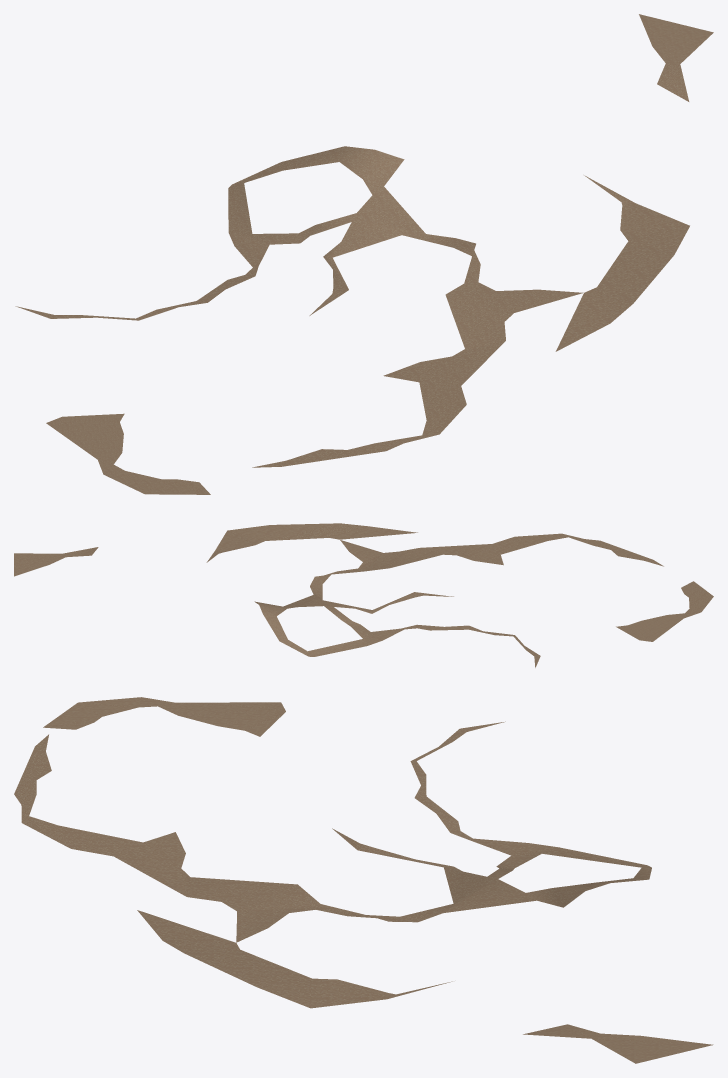
The model's file is kd_stage_135ebf_3_19.glb.
3 renders of one model, top to bottom at view 1: azimuth 30°, elevation 25°; view 2: azimuth 150°, elevation 25°; view 3: azimuth 270°, elevation 25°, orthographic. The views are drawn at different scales.
Parts seen in each view (by area): view 1: kd_stage_135ebf_3_19; view 2: kd_stage_135ebf_3_19; view 3: kd_stage_135ebf_3_19.
Part boxes in pixels (x1,y1,x2,y2): kd_stage_135ebf_3_19: [15, 14, 713, 494]; kd_stage_135ebf_3_19: [14, 523, 713, 667]; kd_stage_135ebf_3_19: [14, 697, 713, 1063].
Size of the model in its own units: 122 by 8.37 by 84.3.
Materials: 1 (1 with a texture image).
